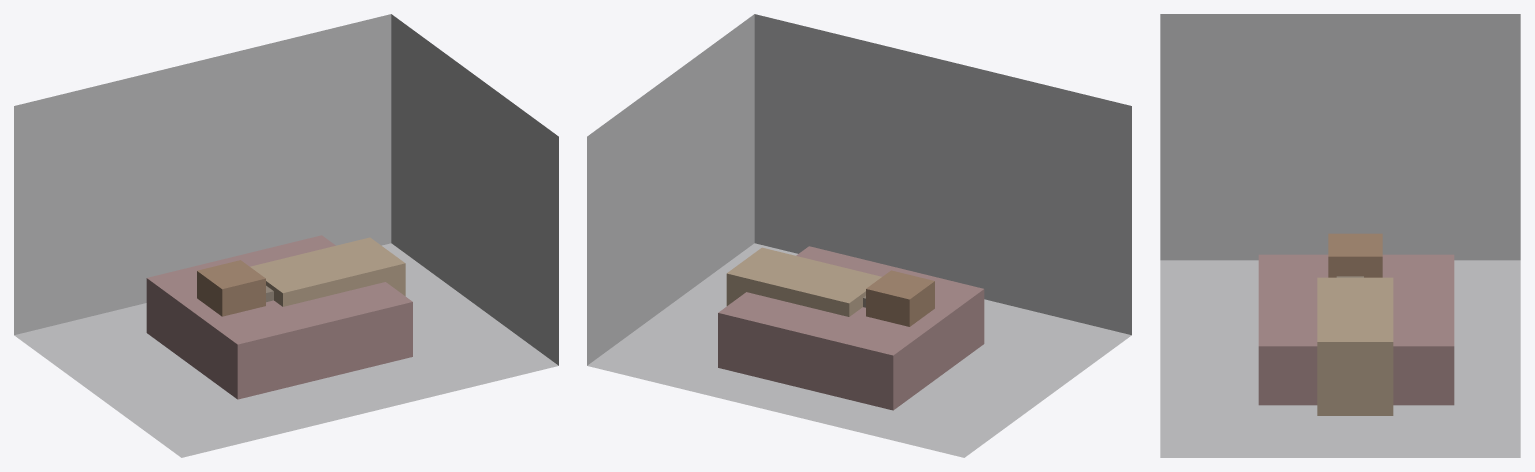
File: optimised_layout.glb
3 renders of one model, left to right at view 1: azimuth 30°, elevation 25°; view 2: azimuth 150°, elevation 25°; view 3: azimuth 270°, elevation 25°, orthographic. The views are drawn at different scales.
Visible parts, largest first — view 1: room, bed, desk, chair; view 2: room, bed, desk, chair; view 3: room, bed, desk, chair.
Part boxes in pixels (x1,y1,x2,y2): room: (14, 14, 558, 457); bed: (146, 235, 412, 399); desk: (250, 237, 405, 306); chair: (197, 260, 265, 316); room: (587, 14, 1131, 457); bed: (718, 246, 984, 410); desk: (726, 247, 881, 316); chair: (866, 270, 934, 326); room: (1160, 14, 1520, 457); bed: (1258, 254, 1454, 405); desk: (1317, 277, 1393, 415); chair: (1328, 233, 1382, 277).
Size of the model in its own units: 4.31 by 2.5 by 3.31.
